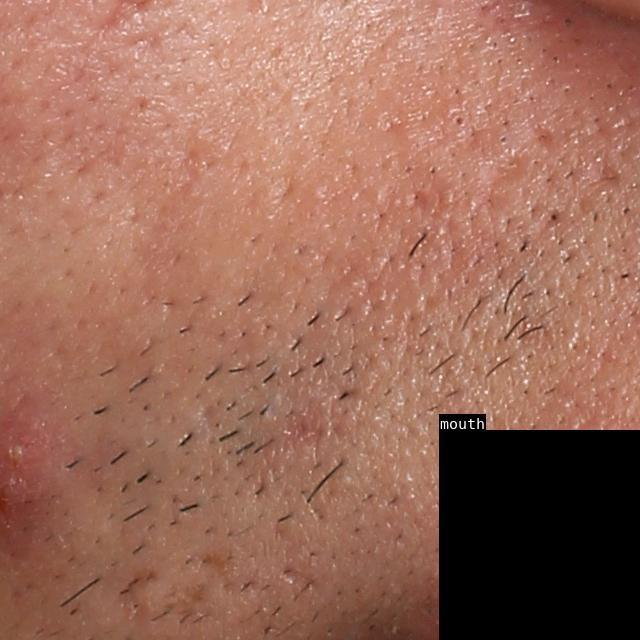atrophic_scar: (246, 389, 355, 492), (474, 154, 539, 227), (190, 536, 265, 599), (274, 525, 321, 606), (108, 561, 152, 632), (166, 585, 218, 628), (530, 108, 556, 152), (595, 153, 624, 192)
comedo: (451, 112, 469, 128)
